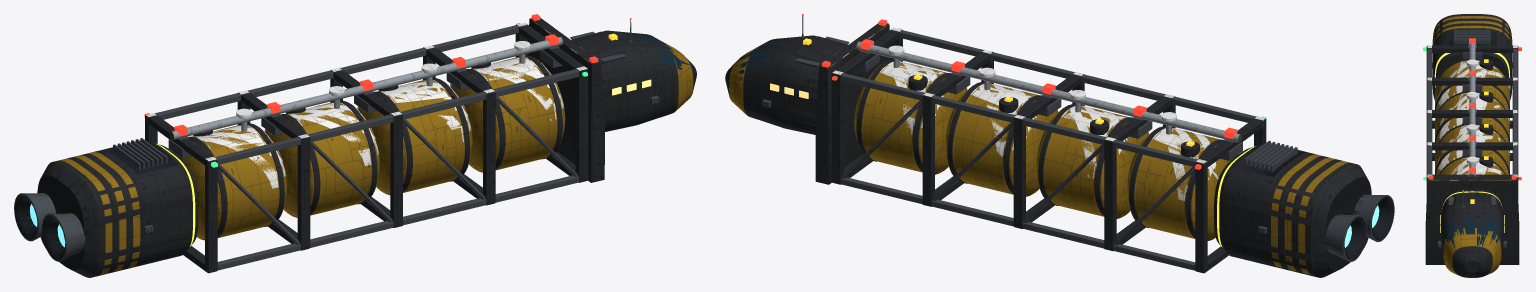
The model's file is volatiles_tanker.glb.
3 renders of one model, left to right at view 1: azimuth 30°, elevation 25°; view 2: azimuth 150°, elevation 25°; view 3: azimuth 270°, elevation 25°, orthographic. The views are drawn at different scales.
Visible parts, largest first — view 1: LOD0_Armor, LOD0_Hull, LOD0_Mechanical, LOD1_Hull, LOD1_Armor, LOD2_Armor, LOD1_Mechanical, LOD0_Livery, LOD0_BrushedMetal, LOD2_Hull, LOD1_Livery, LOD0_MechanicalDark (+5 smaller); view 2: LOD0_Armor, LOD0_Hull, LOD0_Mechanical, LOD1_Hull, LOD1_Armor, LOD2_Armor, LOD1_Mechanical, LOD0_BrushedMetal, LOD2_Hull, LOD0_Livery, LOD1_Livery, LOD0_MechanicalDark (+4 smaller); view 3: LOD0_Armor, LOD1_Armor, LOD0_Hull, LOD0_Mechanical, LOD2_Armor, LOD1_Hull, LOD0_Livery, LOD1_Mechanical, LOD2_Hull, LOD1_Livery, LOD0_BrushedMetal, LOD0_CANOPY (+9 smaller).
Part boxes in pixels (x1,y1,x2,y2): LOD0_Armor: [41, 19, 696, 277]; LOD0_Hull: [60, 43, 693, 274]; LOD0_Mechanical: [14, 20, 659, 271]; LOD1_Hull: [183, 49, 692, 237]; LOD1_Armor: [50, 18, 695, 276]; LOD2_Armor: [44, 19, 696, 277]; LOD1_Mechanical: [14, 23, 656, 272]; LOD0_Livery: [146, 22, 587, 188]; LOD0_BrushedMetal: [172, 37, 562, 139]; LOD2_Hull: [133, 39, 693, 238]; LOD1_Livery: [192, 44, 587, 187]; LOD0_MechanicalDark: [14, 38, 658, 270]; LOD0_Armor: [725, 24, 1367, 277]; LOD0_Hull: [729, 46, 1349, 274]; LOD0_Mechanical: [762, 16, 1394, 270]; LOD1_Hull: [729, 58, 1233, 238]; LOD1_Armor: [726, 23, 1355, 277]; LOD2_Armor: [725, 35, 1362, 277]; LOD1_Mechanical: [797, 16, 1393, 265]; LOD0_BrushedMetal: [856, 41, 1239, 142]; LOD2_Hull: [729, 42, 1232, 238]; LOD0_Livery: [832, 27, 1265, 200]; LOD1_Livery: [833, 47, 1218, 200]; LOD0_MechanicalDark: [763, 43, 1394, 270]; LOD0_Armor: [1425, 14, 1519, 277]; LOD1_Armor: [1425, 17, 1519, 273]; LOD0_Hull: [1432, 16, 1512, 277]; LOD0_Mechanical: [1427, 30, 1517, 247]; LOD2_Armor: [1426, 19, 1518, 277]; LOD1_Hull: [1435, 14, 1509, 277]; LOD0_Livery: [1427, 45, 1517, 180]; LOD1_Mechanical: [1427, 30, 1517, 247]; LOD2_Hull: [1436, 60, 1508, 277]; LOD1_Livery: [1427, 46, 1517, 175]; LOD0_BrushedMetal: [1469, 43, 1475, 176]; LOD0_CANOPY: [1445, 218, 1499, 243].
Size of what is drawn, in the model's own units: 35.12 by 6.67 by 6.44.
Materials: 14 (7 with a texture image).
